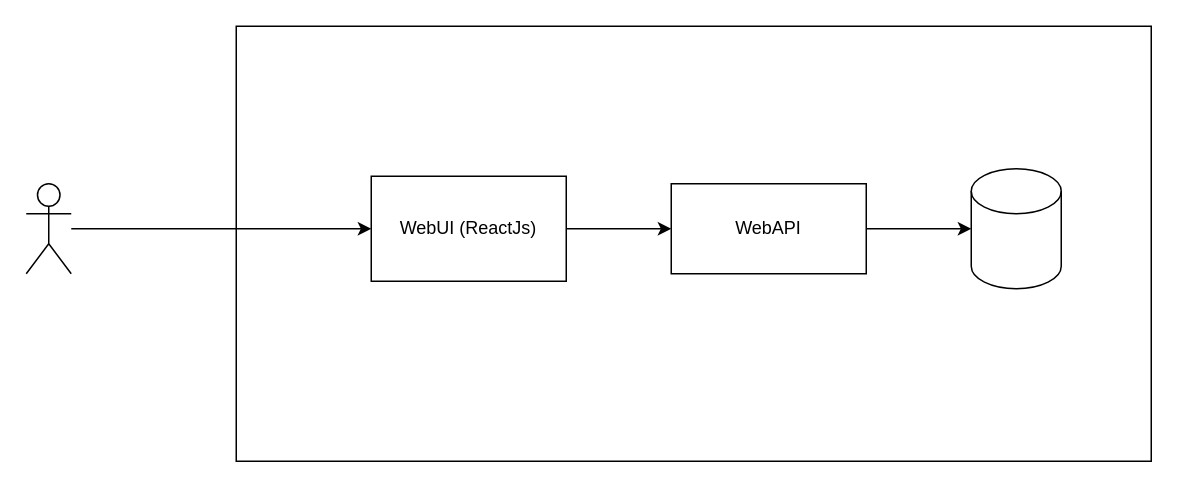
This 1178x488 diagram has some shape labels left out. Here are the shapes that lost their labels. From the top down, the centre of each, then its label:
(48,228): Actor
(1015,228): SQL
